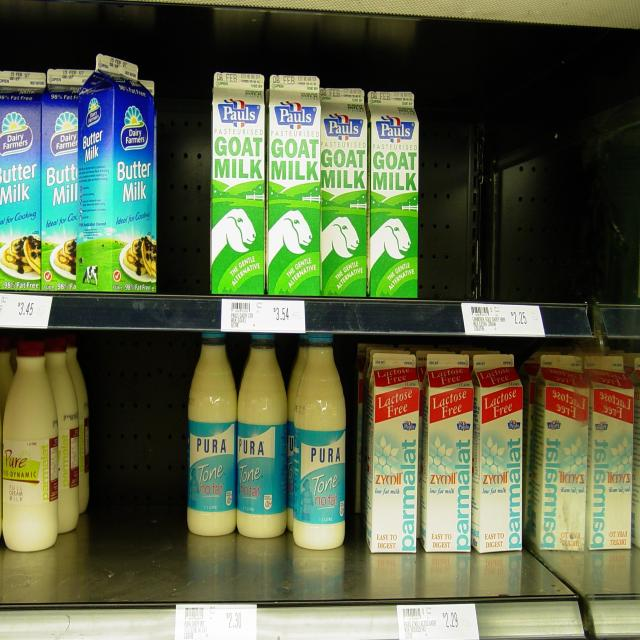empty_space: (420, 92, 616, 304), (4, 552, 640, 604), (83, 335, 187, 541), (161, 72, 211, 292)
